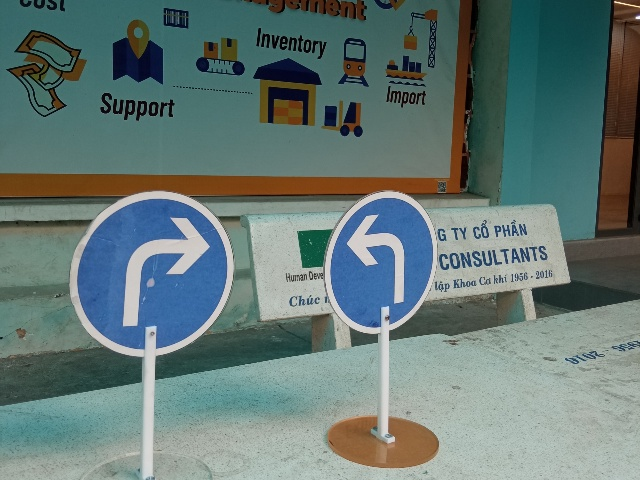Left_Sign: (324, 184, 438, 334)
Right_Sign: (68, 192, 235, 357)
